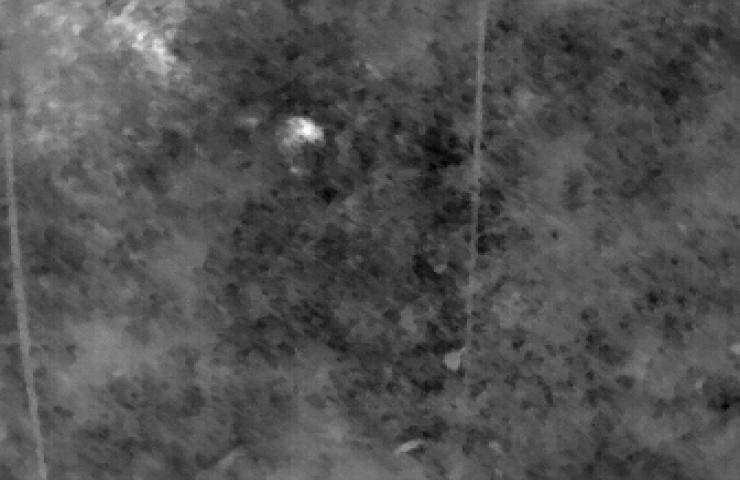landmines: (285, 117, 326, 151)
